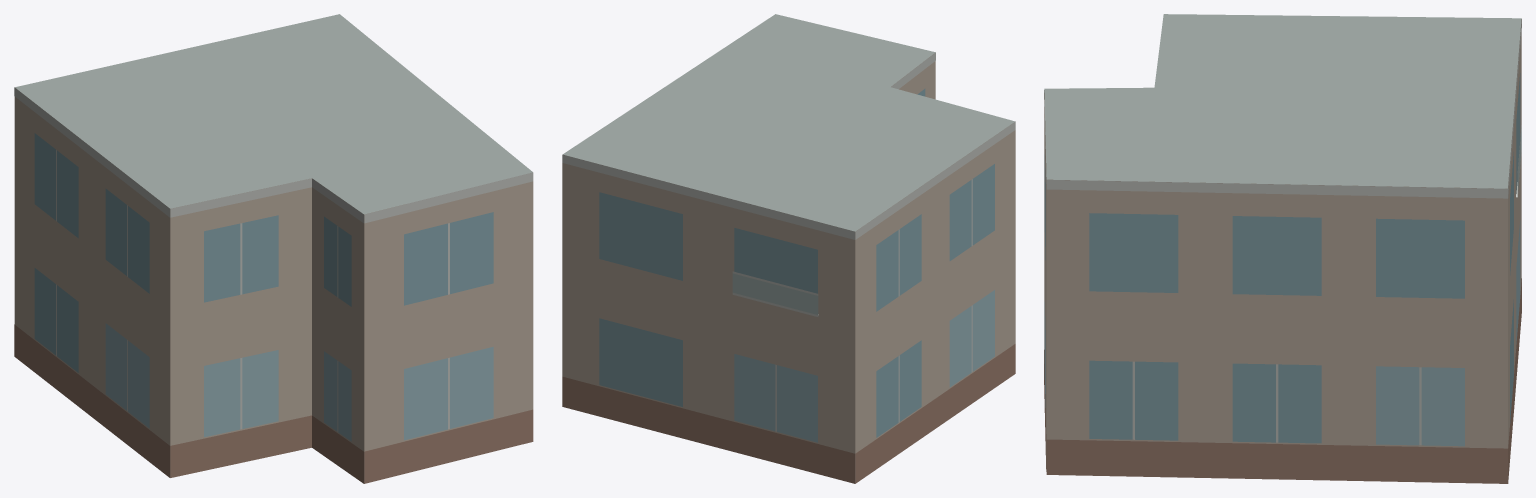
File: survey-upis-32765809.glb
The picture shows the model from 3 angles, left to right: view 1: azimuth 30°, elevation 25°; view 2: azimuth 150°, elevation 25°; view 3: azimuth 270°, elevation 25°; orthographic projection. The views are drawn at different scales.
Parts seen in each view (by area): view 1: survey-upis-32765809.tmp; view 2: survey-upis-32765809.tmp; view 3: survey-upis-32765809.tmp.
Part boxes in pixels (box(x1,y1,x2,y2)): survey-upis-32765809.tmp: box(14, 14, 533, 483); survey-upis-32765809.tmp: box(562, 14, 1015, 483); survey-upis-32765809.tmp: box(1044, 14, 1521, 483).
Size of the model in its own units: 9.28 by 7.3 by 10.71.
